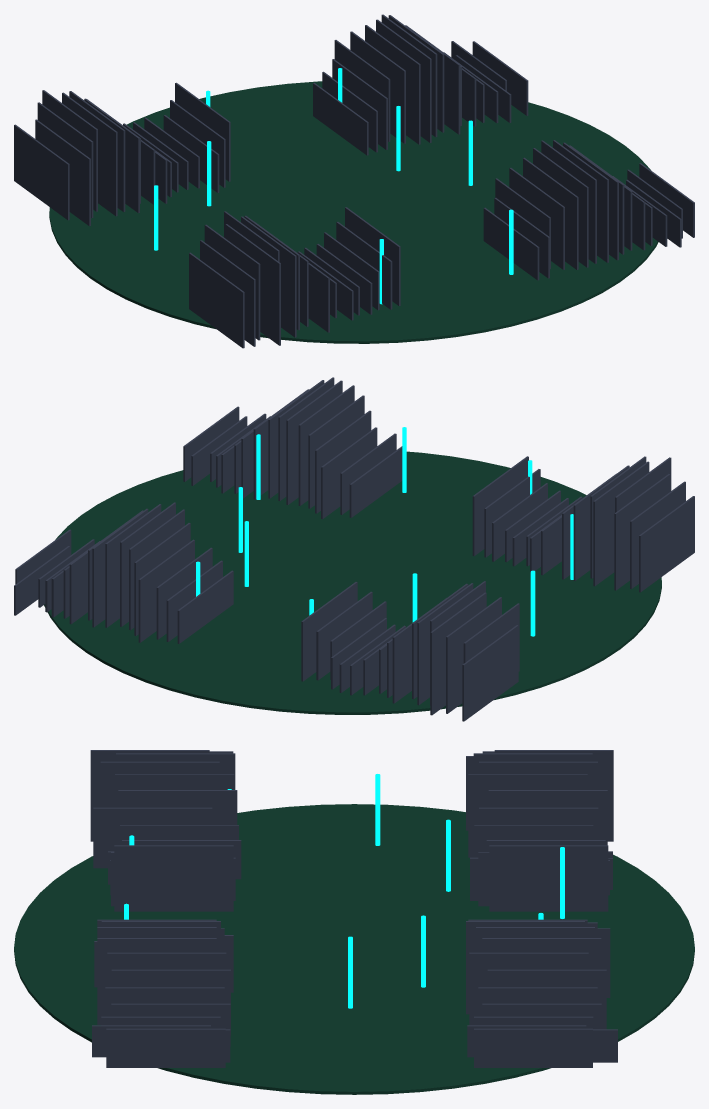
The model's file is backdrop_07.glb.
The picture shows the model from 3 angles, top to bottom: view 1: azimuth 30°, elevation 25°; view 2: azimuth 150°, elevation 25°; view 3: azimuth 270°, elevation 25°; orthographic projection. The views are drawn at different scales.
Visible parts, largest first — view 1: backdrop_07; view 2: backdrop_07; view 3: backdrop_07.
Part boxes in pixels (x1,y1,x2,y2): backdrop_07: (14, 14, 694, 348); backdrop_07: (14, 377, 694, 721); backdrop_07: (14, 750, 694, 1094).
Size of the model in its own units: 80 by 13 by 80.
